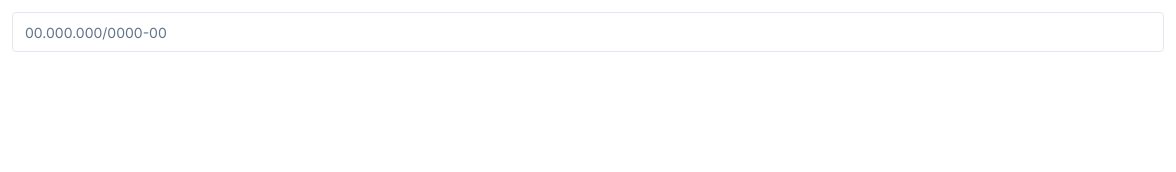
Scenario: CnpjLookupInput — máscara › aplica máscara ao completar 14 dígitos
The width and height of the screenshot is (1176, 172).
In the field with placeholder "00.000.000/0000-00": {"x": 588, "y": 32} [12,12,1164,52], type "11222333000181"
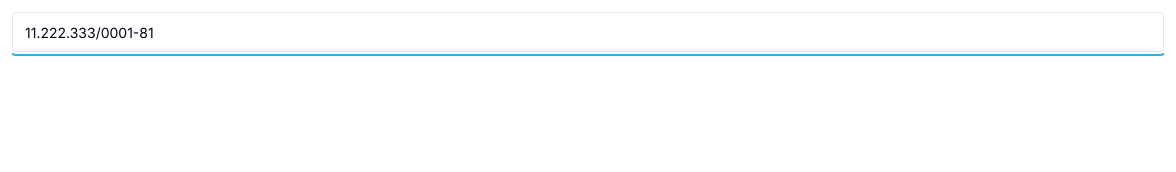
expect the field with placeholder "00.000.000/0000-00" holds "11.222.333/0001-81": met, box [12,12,1164,52]
